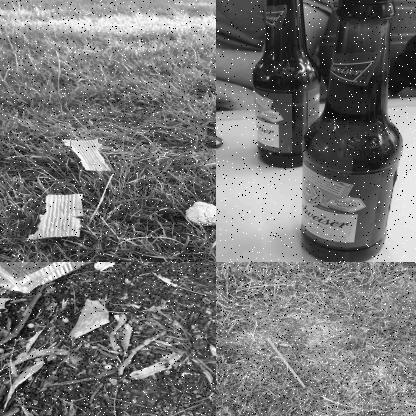cardboard: (32, 195, 86, 239), (58, 136, 108, 174)
glass: (292, 0, 414, 261), (250, 0, 325, 170)
plastic: (0, 262, 210, 294), (262, 335, 312, 393), (185, 201, 215, 227)
